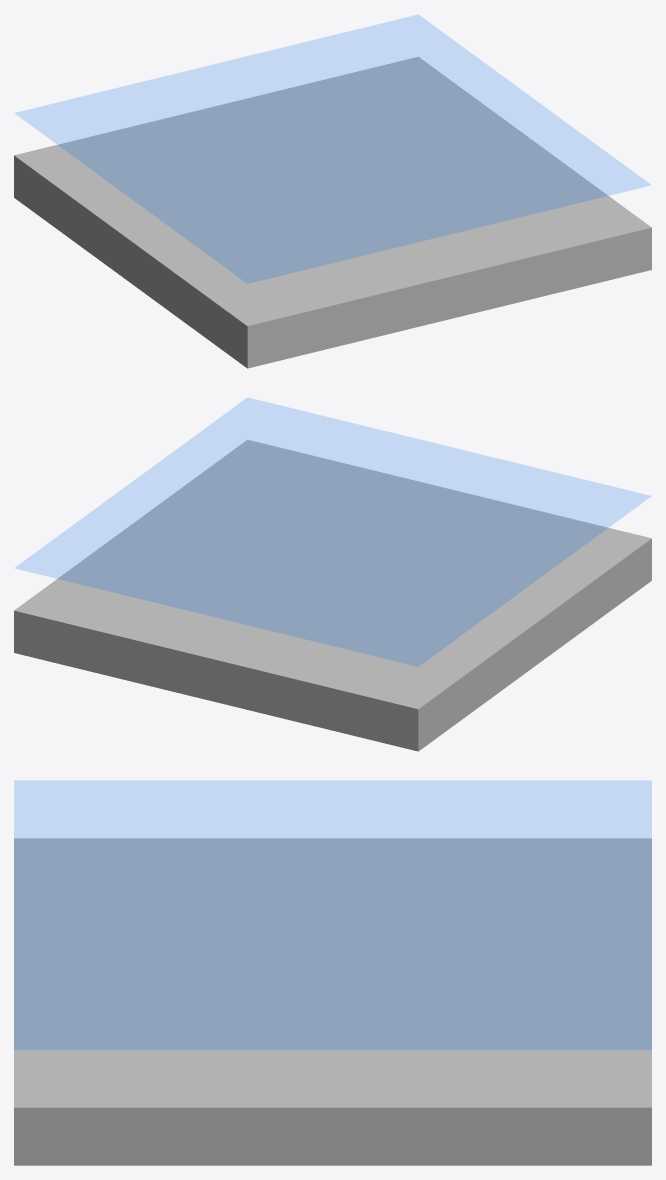
The model's file is tile_water.glb.
The picture shows the model from 3 angles, top to bottom: view 1: azimuth 30°, elevation 25°; view 2: azimuth 150°, elevation 25°; view 3: azimuth 270°, elevation 25°; orthographic projection. The views are drawn at different scales.
Parts seen in each view (by area): view 1: tile.001, tile; view 2: tile.001, tile; view 3: tile.001, tile.
Boxes of the visible parts, left/top/right/bottom form: tile.001: left=14, top=56, right=651, bottom=368; tile: left=15, top=15, right=650, bottom=283; tile.001: left=14, top=439, right=651, bottom=751; tile: left=15, top=398, right=650, bottom=666; tile.001: left=14, top=838, right=651, bottom=1165; tile: left=14, top=781, right=651, bottom=1049.
Size of the model in its own units: 1 by 0.2 by 1.
